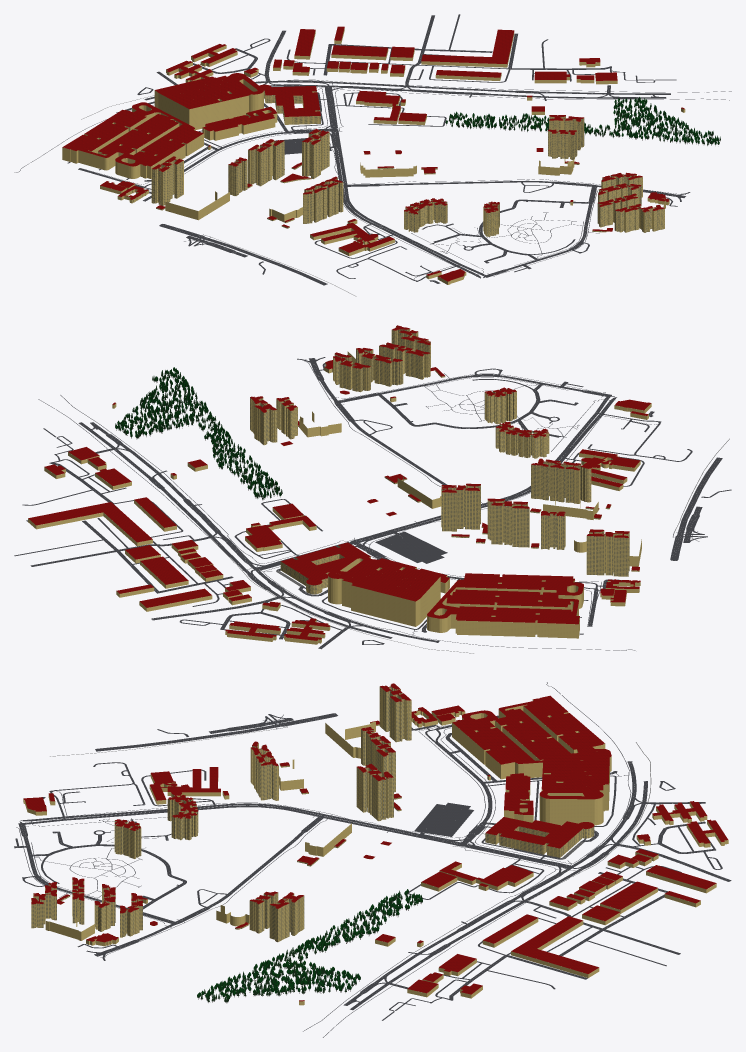
The model's file is osm3d.glb.
3 views of the same model, one above another, from view 1: azimuth 30°, elevation 25°; view 2: azimuth 150°, elevation 25°; view 3: azimuth 270°, elevation 25° (orthographic). The views are drawn at different scales.
Parts seen in each view (by area): view 1: Plaster002, RoofingTiles010, ASPHALT, Windows, TextureAtlas fb9d8532; view 2: Plaster002, RoofingTiles010, ASPHALT, Windows, TextureAtlas fb9d8532; view 3: Plaster002, RoofingTiles010, ASPHALT, Windows, TextureAtlas fb9d8532.
Boxes of the visible parts, x1=… form: Plaster002: x1=62, y1=28, x2=685, y2=284; RoofingTiles010: x1=62, y1=26, x2=684, y2=281; ASPHALT: x1=14, y1=14, x2=731, y2=285; Windows: x1=152, y1=91, x2=664, y2=236; TextureAtlas fb9d8532: x1=445, y1=97, x2=720, y2=145; Plaster002: x1=28, y1=326, x2=651, y2=644; RoofingTiles010: x1=28, y1=325, x2=650, y2=640; ASPHALT: x1=14, y1=357, x2=731, y2=650; Windows: x1=250, y1=329, x2=633, y2=593; TextureAtlas fb9d8532: x1=115, y1=367, x2=282, y2=500; Plaster002: x1=23, y1=685, x2=728, y2=1005; RoofingTiles010: x1=23, y1=683, x2=728, y2=1001; ASPHALT: x1=14, y1=682, x2=731, y2=1037; Windows: x1=31, y1=686, x2=594, y2=941; TextureAtlas fb9d8532: x1=197, y1=889, x2=422, y2=1003.
Size of the model in its own units: 1428 by 75.03 by 1217.
Materials: 16 (16 with a texture image).
